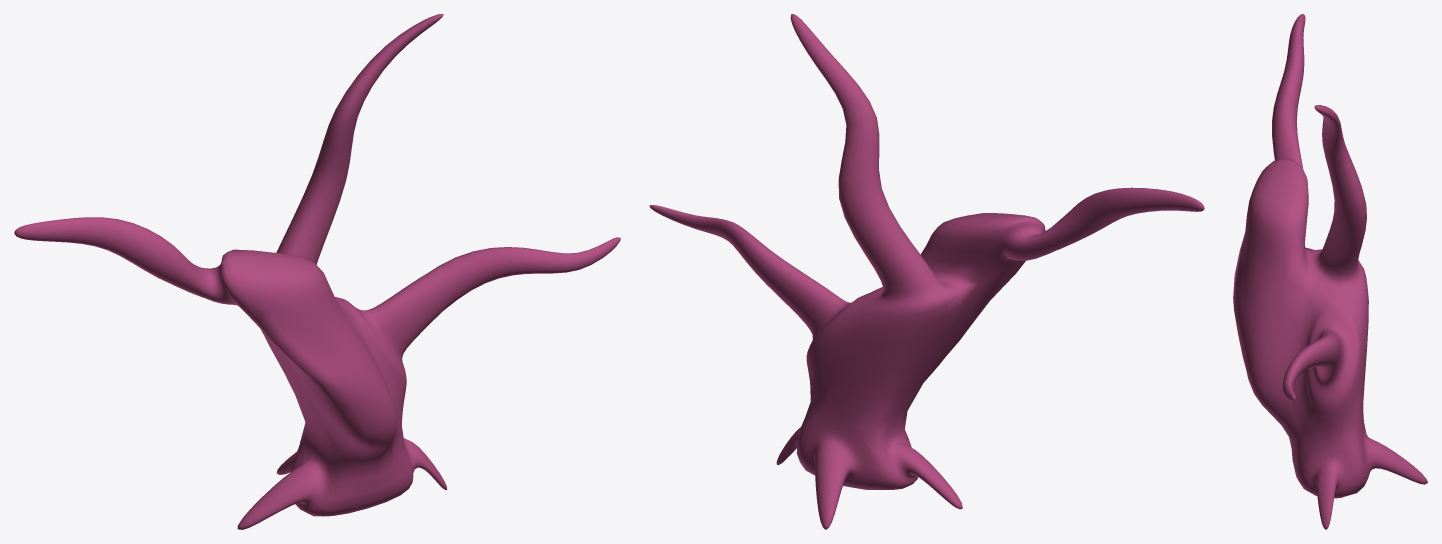
Rendered from primary-structure-v01.glb.
3 renders of one model, left to right at view 1: azimuth 30°, elevation 25°; view 2: azimuth 150°, elevation 25°; view 3: azimuth 270°, elevation 25°, orthographic. The views are drawn at different scales.
Parts seen in each view (by area): view 1: Continuous aged trunk and primary branches; view 2: Continuous aged trunk and primary branches; view 3: Continuous aged trunk and primary branches.
Boxes of the visible parts, box(x1,y1,x2,y2) form: Continuous aged trunk and primary branches: box(14, 14, 620, 529); Continuous aged trunk and primary branches: box(649, 14, 1204, 529); Continuous aged trunk and primary branches: box(1233, 14, 1427, 529).
Size of the model in its own units: 2.18 by 1.68 by 0.7064.
